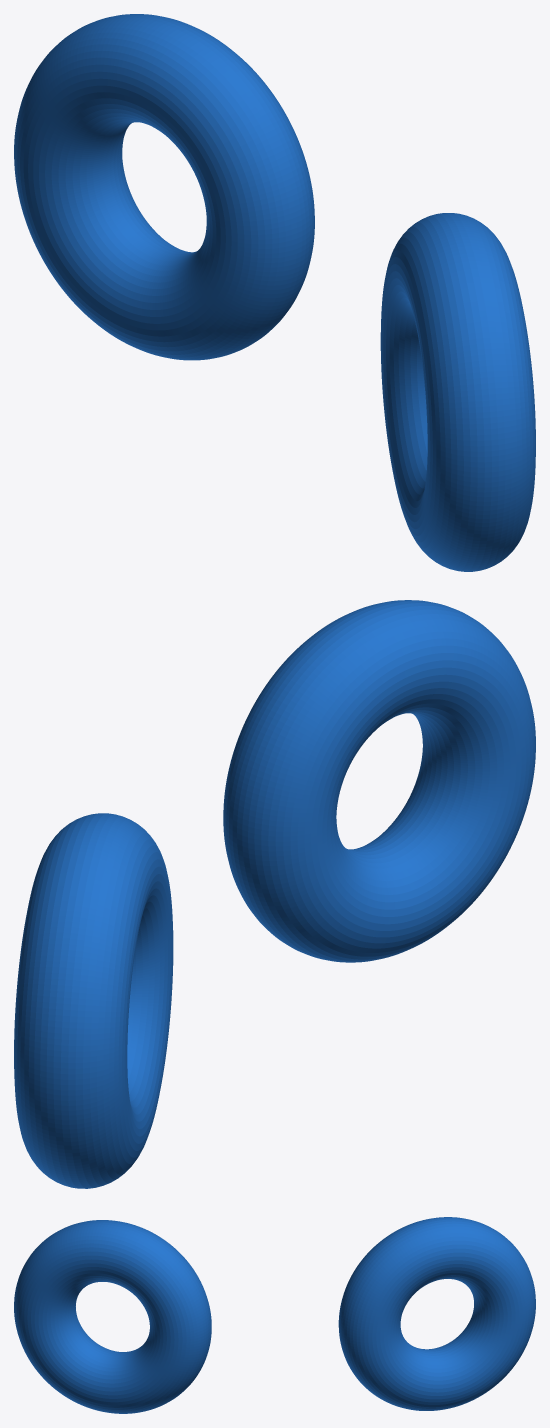
File: eyes3.obj
The picture shows the model from 3 angles, top to bottom: view 1: azimuth 30°, elevation 25°; view 2: azimuth 150°, elevation 25°; view 3: azimuth 270°, elevation 25°; orthographic projection. The views are drawn at different scales.
Parts seen in each view (by area): view 1: eyes3_Torus.001; view 2: eyes3_Torus.001; view 3: eyes3_Torus.001.
Part boxes in pixels (left/top/right/bottom): eyes3_Torus.001: left=14, top=14, right=535, bottom=571; eyes3_Torus.001: left=14, top=600, right=535, bottom=1188; eyes3_Torus.001: left=14, top=1217, right=535, bottom=1413.
Bounding box in the file's own units: 0.3228 × 0.568 × 1.44.
